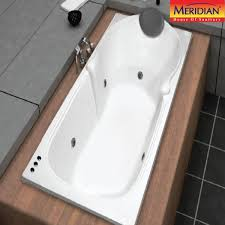bathub: (22, 11, 186, 225)
